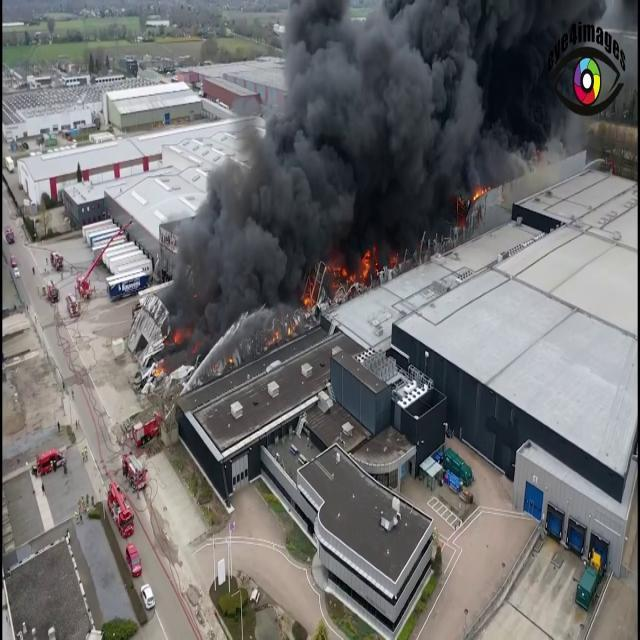Smoke: (161, 1, 555, 227), (164, 3, 380, 346)
